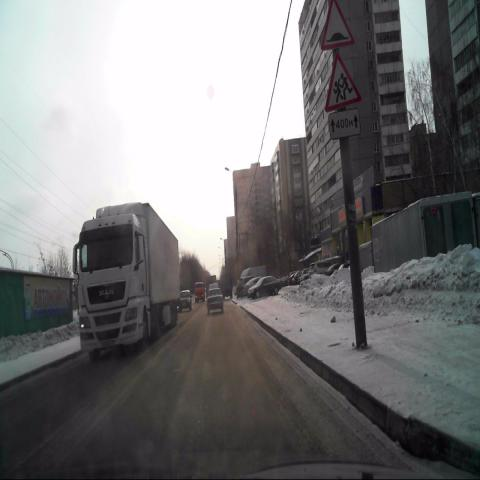1_17: (321, 0, 353, 51)
8_2_1: (328, 109, 362, 137)
